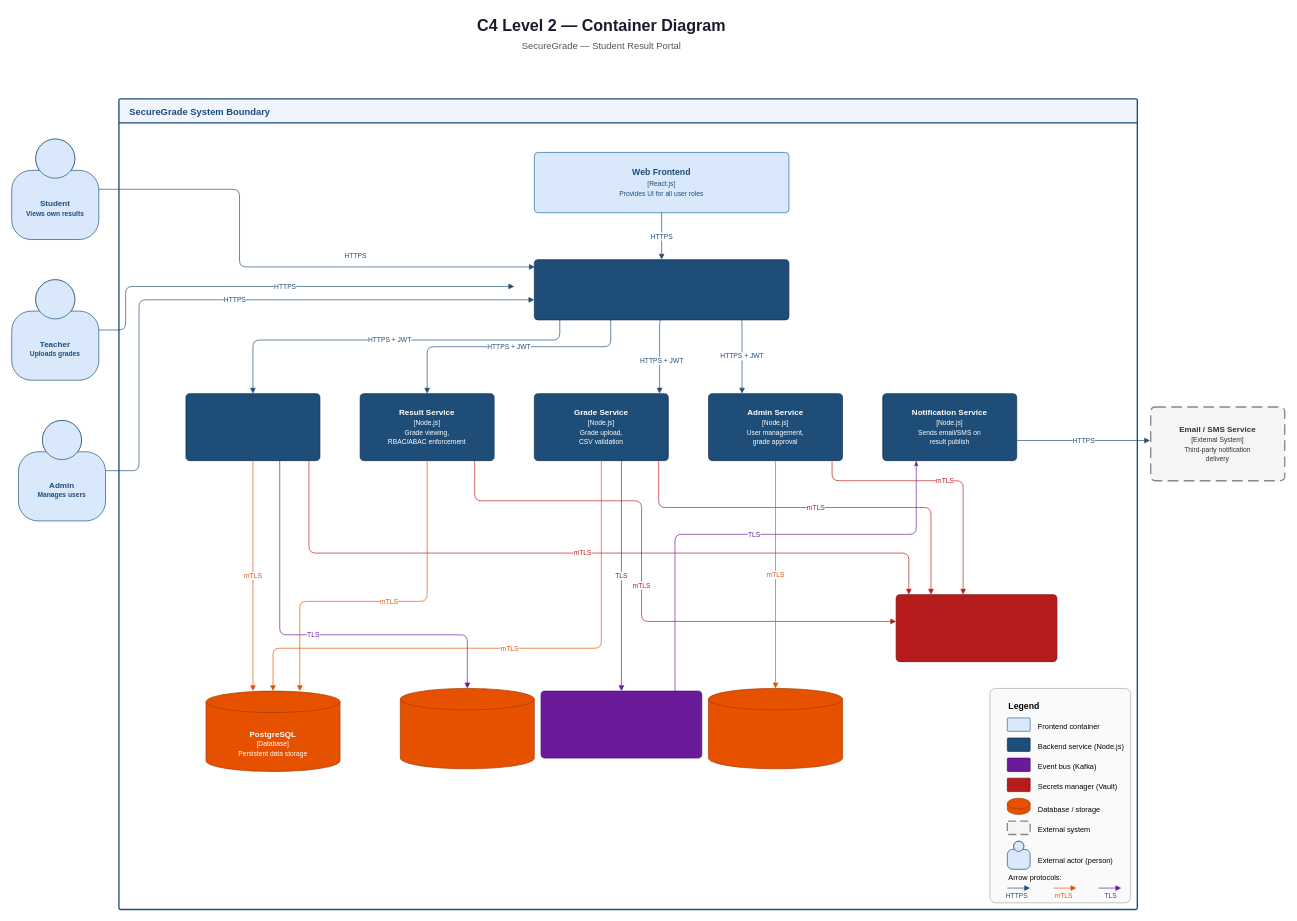
The diagram is 1297 pixels wide and 921 high, and some of its shapes have lost their labels. Here are the shapes that lost their labels. From the top down, the centre of each, then its label:
At point 661,289: "API Gateway [Nginx / Kong] Routing, rate limiting, TLS termination".
At point 252,427: "Auth Service [Node.js] Login, JWT issuance, MFA, sessions".
At point 976,628: "HashiCorp Vault [Secrets Manager] Dynamic secrets management".
At point 467,728: "Redis [Cache] Session and token storage".
At point 621,724: "Apache Kafka [Event Bus] Async event streaming between services".
At point 775,728: "MinIO [Object Storage] Transcript PDF storage".
